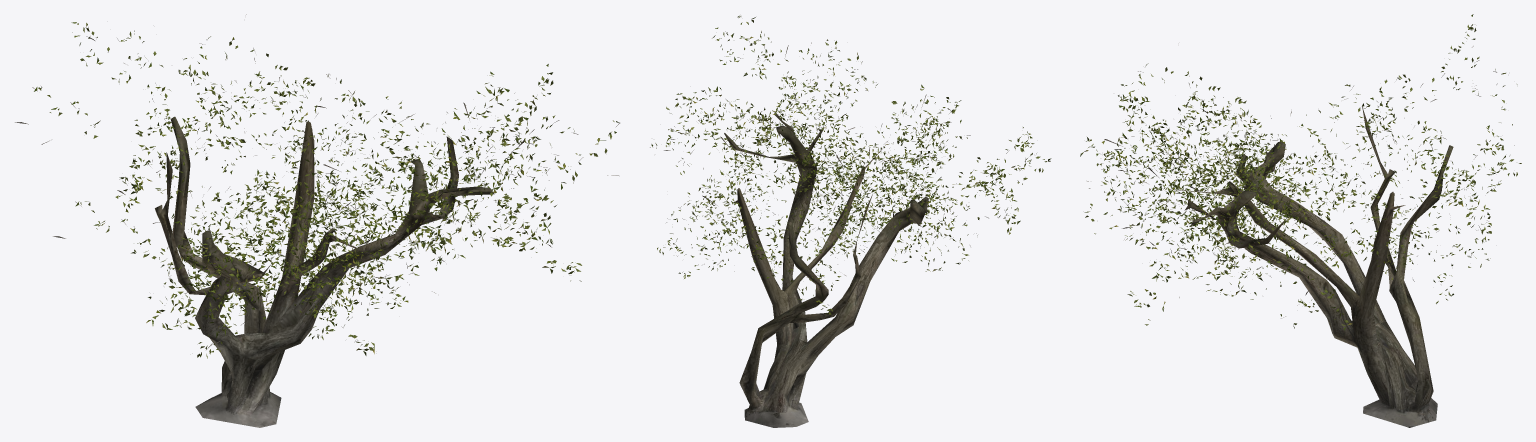
File: island_tree_02.glb
The picture shows the model from 3 angles, left to right: view 1: azimuth 30°, elevation 25°; view 2: azimuth 150°, elevation 25°; view 3: azimuth 270°, elevation 25°; orthographic projection. The views are drawn at different scales.
Parts seen in each view (by area): view 1: island_tree_02 (×3); view 2: island_tree_02 (×3); view 3: island_tree_02 (×3).
Boxes of the visible parts, x1,y1,x2,y2 form: island_tree_02 (×3): (15,14,619,427); island_tree_02 (×3): (650,15,1051,427); island_tree_02 (×3): (1080,14,1521,427).
Size of the model in its own units: 4.04 by 3.39 by 3.99.
Materials: 3 (3 with a texture image).
